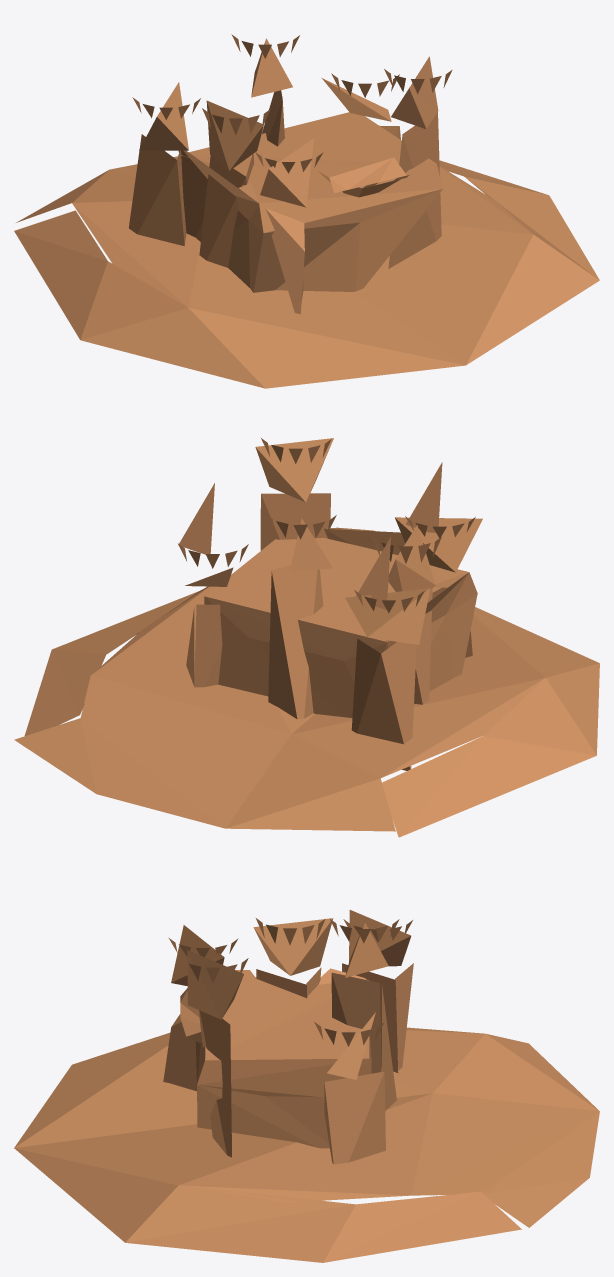
File: sandcastle.glb
The picture shows the model from 3 angles, top to bottom: view 1: azimuth 30°, elevation 25°; view 2: azimuth 150°, elevation 25°; view 3: azimuth 270°, elevation 25°; orthographic projection. The views are drawn at different scales.
Visible parts, largest first — view 1: Node; view 2: Node; view 3: Node.
Boxes of the visible parts, x1,y1,x2,y2 form: Node: (14,34,599,388); Node: (14,438,599,837); Node: (14,910,599,1262).
Size of the model in its own units: 1.42 by 0.6 by 1.42.
